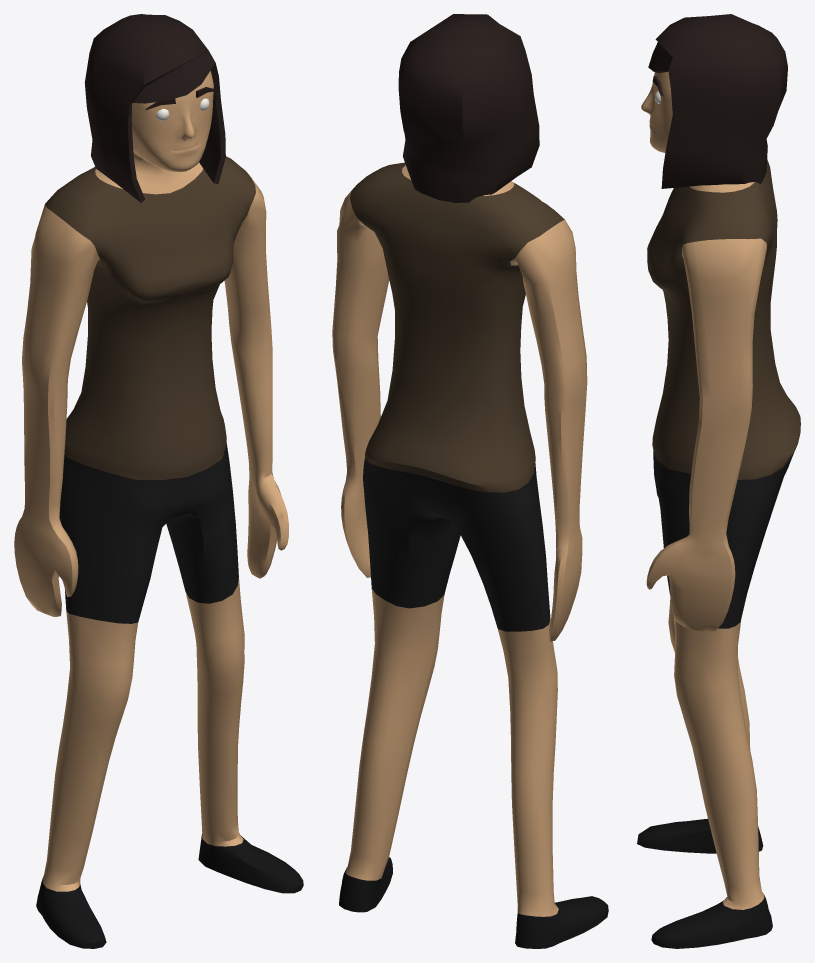
The model's file is smooth_female_tanktop.glb.
3 views of the same model, side by side, from view 1: azimuth 30°, elevation 25°; view 2: azimuth 150°, elevation 25°; view 3: azimuth 270°, elevation 25° (orthographic). The views are drawn at different scales.
Parts seen in each view (by area): view 1: SmoothFemaleTanktop; view 2: SmoothFemaleTanktop; view 3: SmoothFemaleTanktop.
Boxes of the visible parts, x1,y1,x2,y2 form: SmoothFemaleTanktop: (14, 14, 303, 948); SmoothFemaleTanktop: (332, 14, 608, 948); SmoothFemaleTanktop: (637, 14, 800, 948).
Bounding box in the file's own units: 0.5296 × 1.8 × 0.3085.
